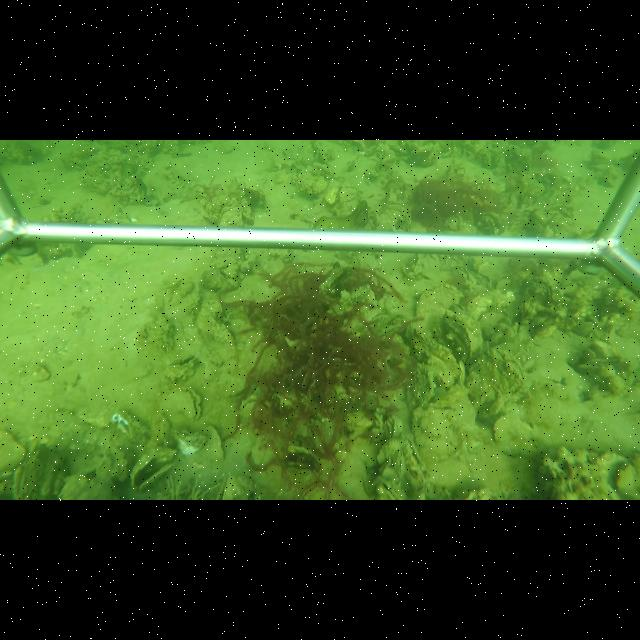Oyster-Closed: (467, 348, 525, 422), (412, 331, 462, 389), (491, 414, 542, 458), (446, 306, 480, 361), (414, 285, 462, 318), (291, 169, 328, 196), (202, 424, 227, 459), (386, 415, 402, 438), (394, 450, 405, 477), (402, 210, 413, 231)
Oyster-Open: (130, 447, 178, 492), (160, 384, 202, 422), (398, 434, 431, 482), (374, 481, 406, 499), (470, 270, 493, 290)
